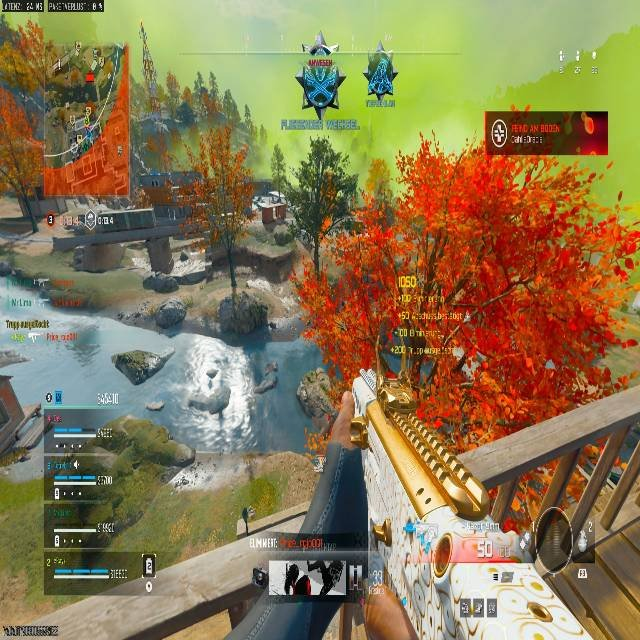head: (310, 36, 331, 59)
player: (296, 37, 343, 126), (364, 45, 396, 104), (238, 506, 253, 536)
